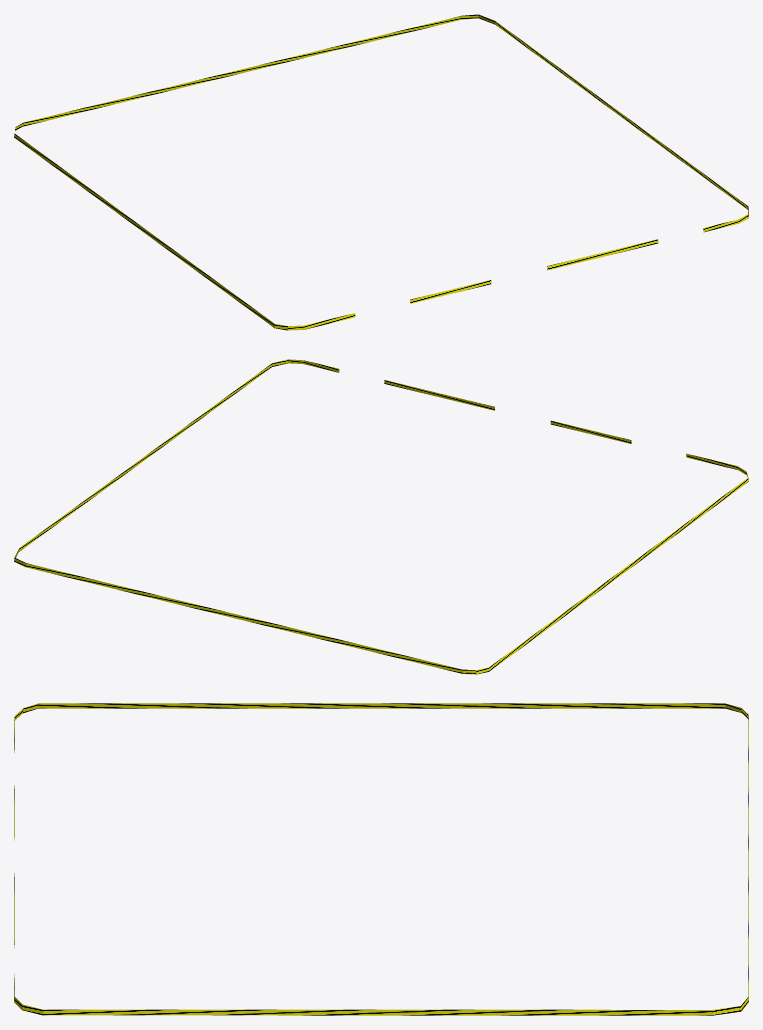
File: Lenta.fbx
The picture shows the model from 3 angles, top to bottom: view 1: azimuth 30°, elevation 25°; view 2: azimuth 150°, elevation 25°; view 3: azimuth 270°, elevation 25°; orthographic projection. The views are drawn at different scales.
Parts seen in each view (by area): view 1: Plane.002; view 2: Plane.002; view 3: Plane.002.
Part boxes in pixels (x1,y1,x2,y2): Plane.002: [14, 14, 748, 330]; Plane.002: [14, 359, 748, 674]; Plane.002: [14, 703, 748, 1015].
Size of the model in its own units: 2007 by 16.81 by 2031.
Materials: 1 (1 with a texture image).
